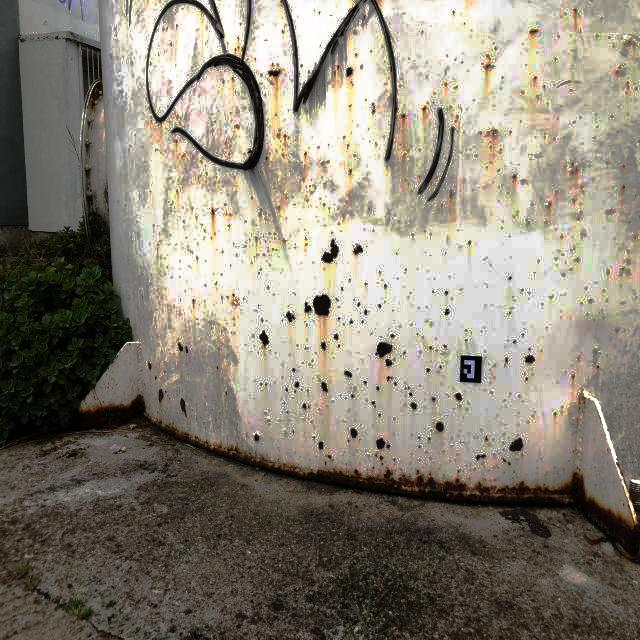Corrosion: (76, 386, 640, 557), (321, 239, 339, 264), (87, 81, 103, 109), (313, 294, 331, 317), (375, 342, 393, 359), (509, 437, 524, 452), (259, 329, 269, 349), (578, 390, 586, 414), (180, 397, 187, 418), (572, 447, 584, 457), (268, 69, 281, 78), (624, 38, 637, 47), (158, 388, 165, 404), (286, 311, 296, 322), (353, 245, 363, 256), (376, 438, 386, 449), (524, 354, 535, 364), (435, 421, 444, 433), (304, 301, 312, 314), (231, 296, 241, 306), (475, 453, 486, 462), (252, 432, 261, 443), (350, 427, 358, 439), (454, 392, 463, 402), (321, 382, 329, 393), (481, 62, 493, 69), (596, 409, 602, 423), (630, 493, 640, 501), (615, 65, 622, 76), (385, 358, 393, 367), (343, 370, 352, 378), (346, 67, 353, 77), (529, 28, 539, 35), (320, 341, 326, 351), (178, 342, 184, 352), (410, 402, 417, 410), (371, 103, 376, 114), (318, 441, 324, 450), (386, 375, 393, 382), (504, 356, 508, 368), (444, 308, 450, 316), (148, 361, 152, 371), (265, 416, 270, 424), (379, 455, 384, 463), (492, 129, 497, 137), (546, 200, 551, 208), (211, 208, 215, 217), (481, 477, 487, 483), (294, 381, 299, 388), (302, 403, 307, 410), (512, 173, 517, 180), (450, 189, 453, 200), (502, 457, 507, 463), (431, 396, 436, 402), (334, 334, 339, 340), (234, 124, 240, 129), (327, 454, 332, 460), (486, 54, 491, 60), (574, 167, 579, 173), (485, 435, 489, 442), (426, 368, 431, 373), (247, 149, 252, 154), (401, 113, 406, 118), (390, 334, 396, 338), (364, 309, 368, 315), (375, 451, 379, 457), (185, 346, 188, 354), (607, 268, 611, 274), (324, 460, 327, 467), (457, 470, 460, 477), (507, 461, 511, 466), (409, 392, 413, 397), (349, 319, 353, 324), (281, 153, 285, 158), (422, 106, 426, 111), (386, 444, 390, 449), (571, 170, 576, 174), (571, 374, 575, 379), (576, 417, 578, 427), (508, 276, 512, 281), (160, 120, 163, 126), (265, 156, 268, 162), (261, 317, 264, 323), (246, 432, 249, 438), (349, 169, 352, 175), (304, 151, 307, 157), (571, 161, 574, 167), (445, 290, 448, 296), (445, 80, 448, 86), (371, 401, 375, 405), (292, 368, 296, 372), (351, 394, 355, 398), (593, 349, 597, 353), (573, 8, 577, 12), (443, 344, 447, 348), (535, 95, 539, 99), (428, 436, 431, 441), (394, 381, 397, 386), (376, 386, 379, 391), (357, 302, 360, 307), (231, 76, 234, 81), (174, 140, 177, 145), (337, 65, 340, 70), (378, 304, 381, 309), (361, 319, 364, 324), (622, 185, 625, 190), (534, 76, 537, 81), (622, 502, 625, 507), (469, 241, 472, 246), (154, 376, 157, 380), (165, 390, 168, 394), (439, 365, 442, 369), (336, 297, 339, 301), (255, 236, 257, 242), (277, 133, 280, 137), (280, 0, 283, 4), (216, 366, 219, 370), (225, 391, 228, 395), (308, 405, 311, 409), (390, 66, 392, 72), (403, 153, 406, 157), (384, 284, 387, 288), (365, 282, 368, 286), (364, 381, 367, 385), (381, 462, 384, 466), (393, 458, 396, 462), (525, 377, 528, 381), (513, 340, 516, 344), (528, 347, 531, 351), (554, 412, 557, 416), (597, 365, 600, 369), (522, 333, 525, 337), (607, 447, 609, 453), (429, 346, 432, 350), (493, 478, 496, 482), (508, 311, 511, 315), (549, 295, 553, 298), (313, 435, 315, 440), (176, 23, 178, 28), (334, 71, 336, 76), (163, 370, 166, 373), (418, 445, 421, 448), (378, 414, 381, 417), (232, 293, 235, 296), (226, 295, 229, 298), (286, 411, 289, 414), (403, 351, 406, 354), (347, 439, 350, 442), (518, 395, 521, 398), (490, 391, 493, 394), (545, 221, 548, 224), (129, 343, 131, 347), (157, 411, 159, 415), (418, 436, 420, 440), (408, 386, 410, 390), (338, 316, 340, 320), (341, 287, 343, 291), (278, 206, 280, 210), (284, 134, 286, 138), (237, 36, 239, 40), (286, 388, 288, 392), (265, 411, 267, 415), (292, 430, 294, 434), (311, 420, 313, 424), (332, 458, 334, 462), (215, 418, 217, 422), (201, 8, 203, 12), (170, 42, 172, 46), (349, 278, 351, 282), (338, 344, 340, 348), (343, 136, 345, 140), (193, 299, 194, 307), (623, 164, 625, 168), (622, 267, 624, 271), (607, 428, 609, 432), (543, 85, 545, 89), (627, 81, 629, 85), (474, 467, 476, 471), (493, 452, 495, 456), (116, 355, 118, 358), (419, 459, 421, 462), (513, 470, 515, 473), (405, 387, 407, 390), (374, 405, 376, 408), (277, 63, 279, 66), (282, 30, 284, 33), (235, 48, 237, 51), (237, 46, 239, 49), (258, 271, 260, 274), (267, 286, 269, 289), (265, 383, 267, 386), (294, 390, 296, 393), (307, 389, 309, 392), (355, 53, 357, 56), (308, 70, 310, 73), (430, 182, 432, 185), (435, 176, 437, 179), (405, 268, 407, 271), (345, 397, 347, 400), (387, 440, 389, 443), (345, 463, 347, 466), (347, 144, 349, 147), (323, 203, 325, 206), (521, 453, 523, 456), (436, 349, 438, 352), (432, 291, 435, 293), (425, 451, 428, 453), (468, 477, 470, 480), (481, 462, 483, 465), (489, 479, 491, 482), (527, 420, 529, 423), (494, 364, 496, 367), (501, 226, 503, 229), (558, 35, 560, 38), (553, 137, 555, 140), (561, 235, 563, 238), (555, 257, 557, 260), (585, 287, 587, 290), (272, 62, 273, 67), (142, 295, 143, 299), (138, 340, 140, 342), (343, 323, 345, 325), (306, 324, 308, 326), (285, 240, 287, 242), (225, 141, 226, 145), (241, 48, 243, 50), (264, 94, 266, 96), (260, 383, 262, 385), (283, 402, 285, 404), (301, 389, 303, 391), (325, 455, 327, 457), (219, 412, 221, 414), (279, 419, 281, 421), (395, 117, 397, 119), (412, 234, 414, 236), (353, 299, 355, 301), (349, 105, 351, 107), (343, 214, 344, 218), (331, 232, 333, 234), (453, 11, 454, 15), (422, 336, 424, 338), (430, 429, 432, 431), (459, 469, 461, 471), (488, 469, 490, 471), (462, 470, 464, 472), (493, 467, 495, 469), (512, 477, 514, 479), (503, 471, 505, 473), (492, 439, 494, 441), (518, 412, 520, 414), (513, 215, 515, 217), (564, 13, 566, 15), (543, 136, 545, 138), (573, 248, 575, 250), (570, 268, 572, 270), (149, 107, 150, 110), (144, 383, 145, 386), (169, 397, 170, 400), (282, 319, 283, 322), (215, 120, 216, 123), (261, 74, 262, 77), (183, 154, 184, 157), (379, 270, 380, 273), (373, 229, 374, 232), (396, 252, 397, 255), (329, 207, 330, 210), (430, 233, 431, 236), (443, 450, 444, 453), (498, 477, 499, 480), (547, 102, 548, 105), (538, 260, 539, 263), (571, 249, 572, 252), (167, 395, 168, 397), (229, 153, 230, 155), (258, 304, 259, 306), (243, 298, 244, 300), (419, 176, 420, 178), (340, 394, 341, 396), (417, 333, 418, 335), (420, 351, 421, 353), (426, 306, 427, 308), (411, 324, 412, 326), (445, 252, 446, 254), (430, 255, 431, 257), (424, 230, 425, 232), (443, 353, 445, 354), (430, 457, 431, 459), (455, 459, 456, 461), (470, 469, 471, 471), (498, 466, 499, 468), (496, 465, 497, 467), (503, 441, 504, 443), (497, 450, 498, 452), (485, 350, 486, 352), (508, 192, 509, 194), (498, 200, 499, 202), (581, 234, 582, 236), (562, 254, 563, 256), (542, 303, 543, 305), (581, 303, 583, 304), (587, 313, 588, 315), (375, 143, 376, 144), (365, 450, 366, 451), (507, 340, 508, 341), (418, 307, 419, 308), (433, 422, 434, 423), (466, 465, 467, 466), (495, 457, 496, 458), (503, 449, 504, 450), (503, 434, 504, 435), (499, 453, 500, 454), (509, 236, 510, 237), (557, 118, 558, 119), (563, 274, 564, 275)
